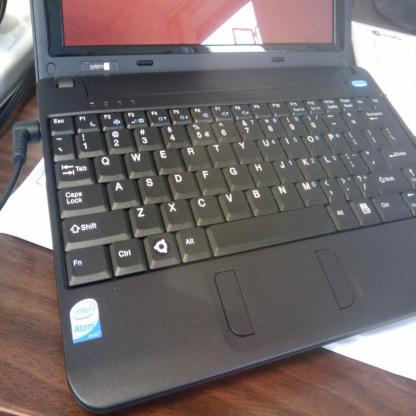board: (29, 0, 416, 413)
